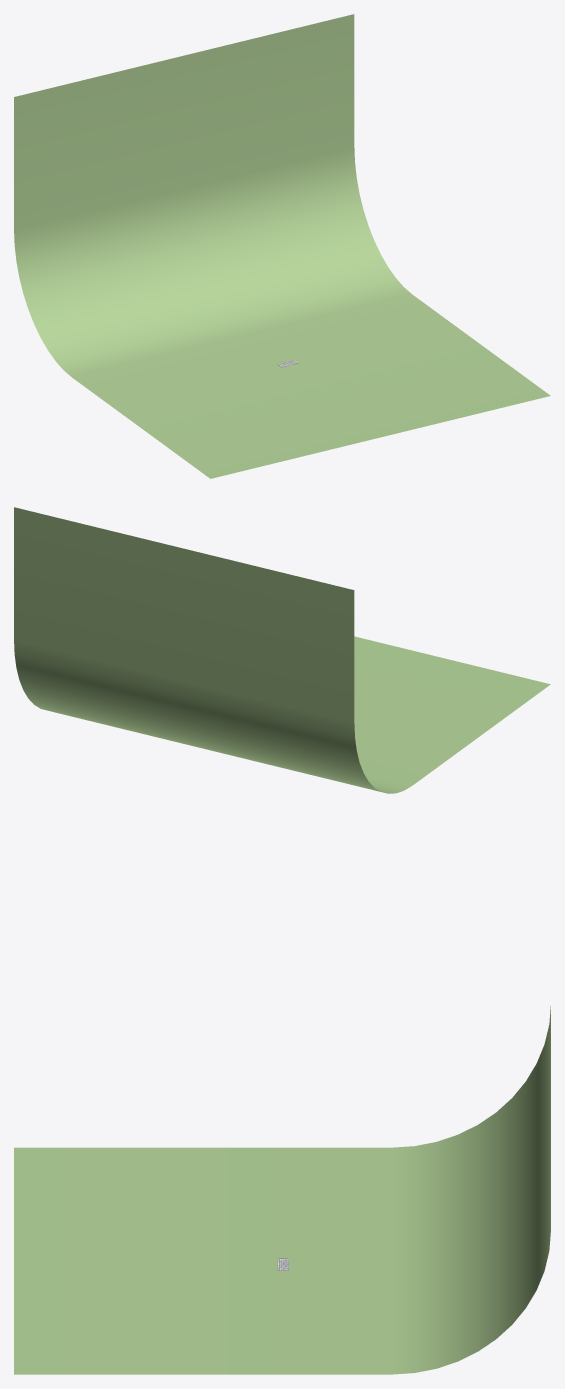
File: APPLEKEYBORD.glb
3 renders of one model, top to bottom at view 1: azimuth 30°, elevation 25°; view 2: azimuth 150°, elevation 25°; view 3: azimuth 270°, elevation 25°, orthographic. The views are drawn at different scales.
Parts seen in each view (by area): view 1: Plane.002; view 2: Plane.002; view 3: Plane.002.
Part boxes in pixels (x1=…): Plane.002: x1=14, y1=14, x2=550, y2=478; Plane.002: x1=14, y1=507, x2=550, y2=793; Plane.002: x1=14, y1=1006, x2=550, y2=1374.
Size of the model in its own units: 89.5 by 59.79 by 89.5.
3 materials, 1 textured.
